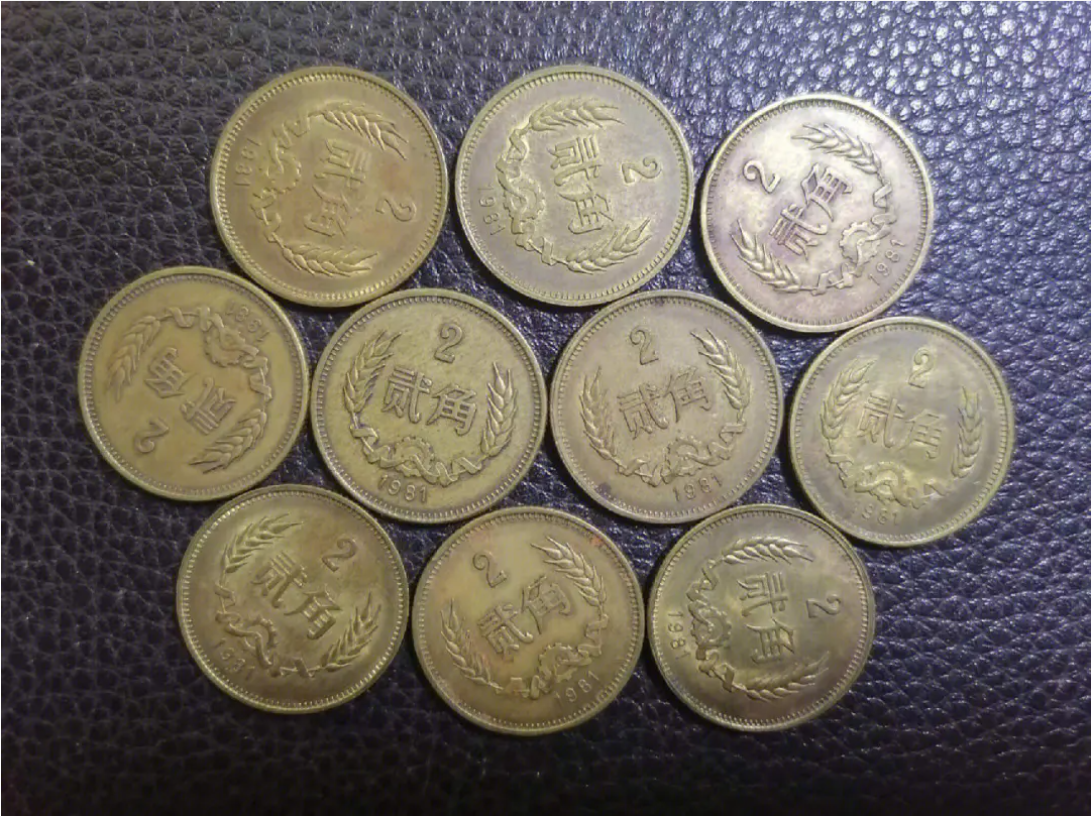coin: (454, 61, 695, 312), (207, 65, 450, 310), (69, 265, 311, 504), (698, 92, 932, 334), (313, 288, 550, 526), (551, 288, 786, 528), (169, 484, 410, 716), (408, 505, 646, 738), (786, 314, 1016, 550), (649, 501, 878, 735)
